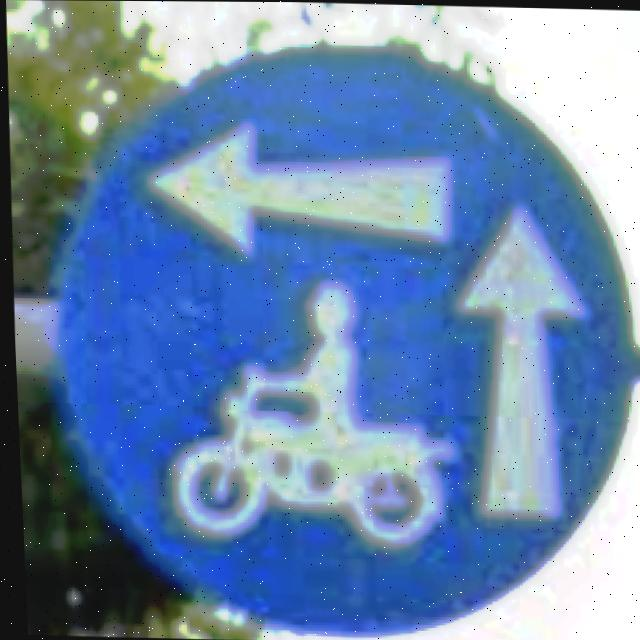twostageturn: (51, 44, 630, 637)
